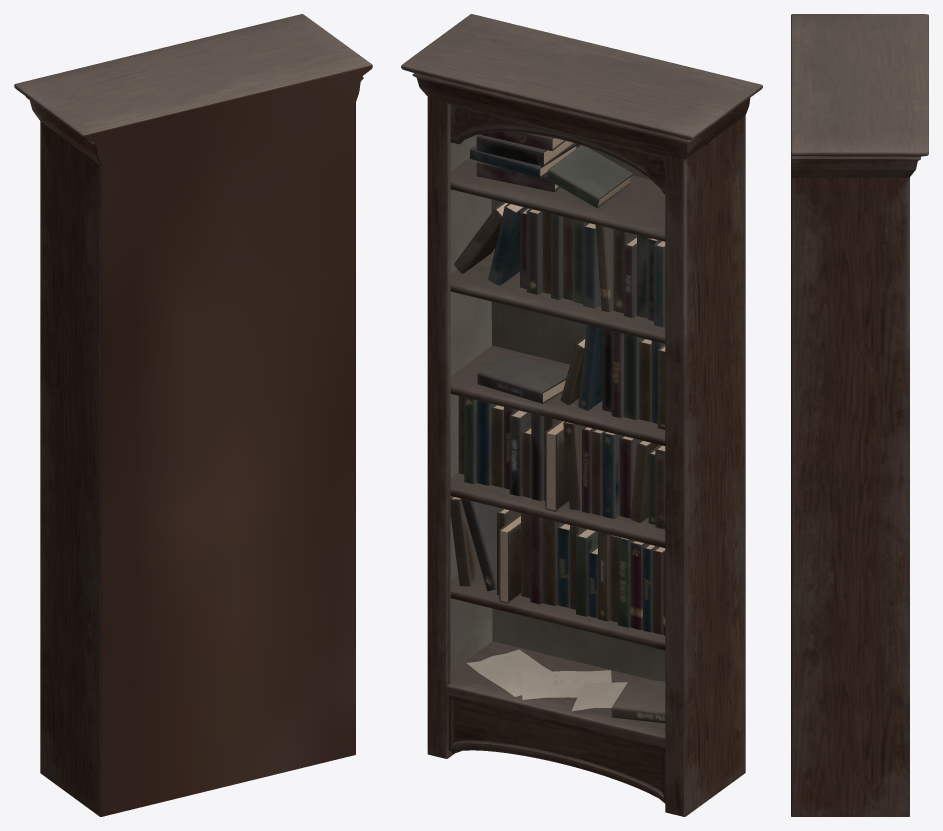
File: Old_Dusty_Bookshelf.fbx
3 renders of one model, left to right at view 1: azimuth 30°, elevation 25°; view 2: azimuth 150°, elevation 25°; view 3: azimuth 270°, elevation 25°, orthographic. The views are drawn at different scales.
Parts seen in each view (by area): view 1: Old_Dusty_Bookshelf; view 2: Old_Dusty_Bookshelf; view 3: Old_Dusty_Bookshelf.
Part boxes in pixels (x1=…): Old_Dusty_Bookshelf: x1=14, y1=14, x2=372, y2=816; Old_Dusty_Bookshelf: x1=401, y1=14, x2=762, y2=816; Old_Dusty_Bookshelf: x1=791, y1=14, x2=928, y2=816.
Size of the model in its own units: 97.72 by 221 by 41.06.
